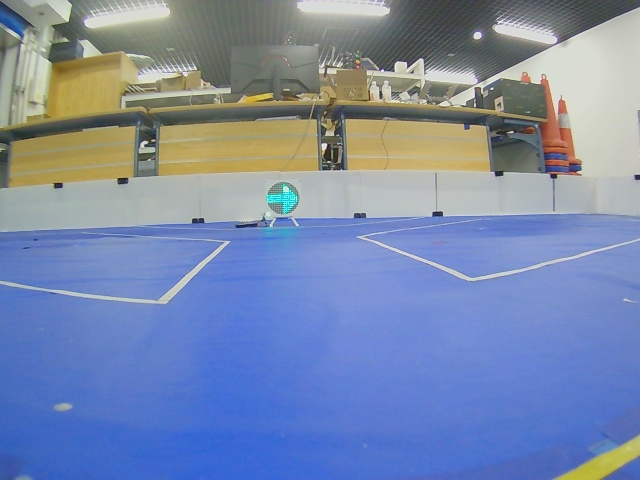right_green: (266, 182, 299, 215)
